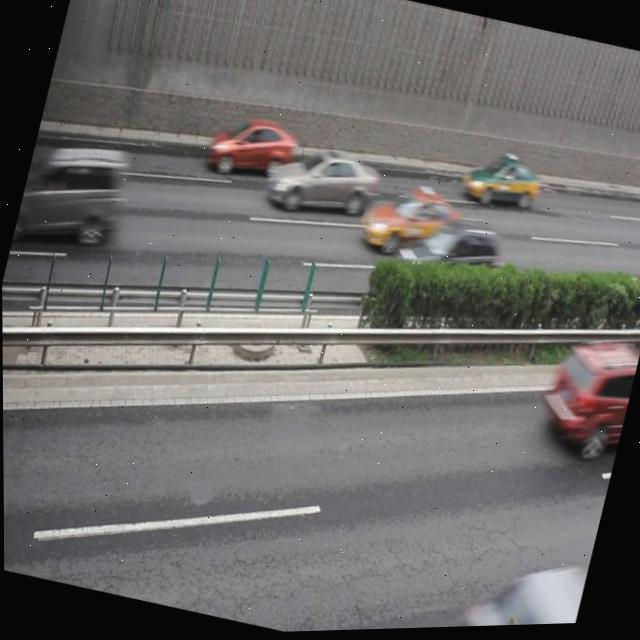car: (532, 333, 640, 461), (259, 133, 383, 231), (389, 208, 503, 310), (356, 173, 467, 268), (440, 558, 584, 630), (202, 107, 302, 189), (457, 145, 545, 220)
truck: (18, 129, 134, 259)
